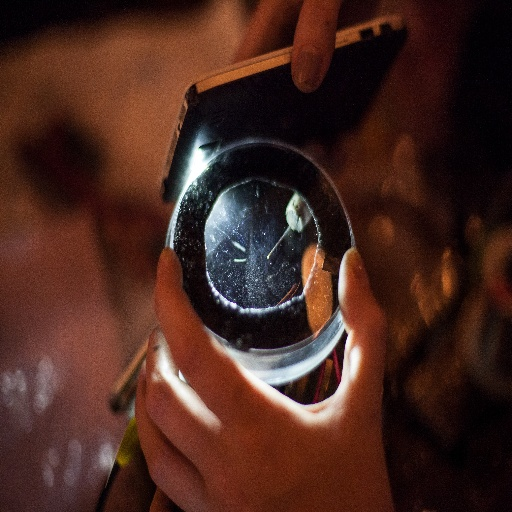hand: (132, 246, 395, 511), (231, 0, 342, 97)
